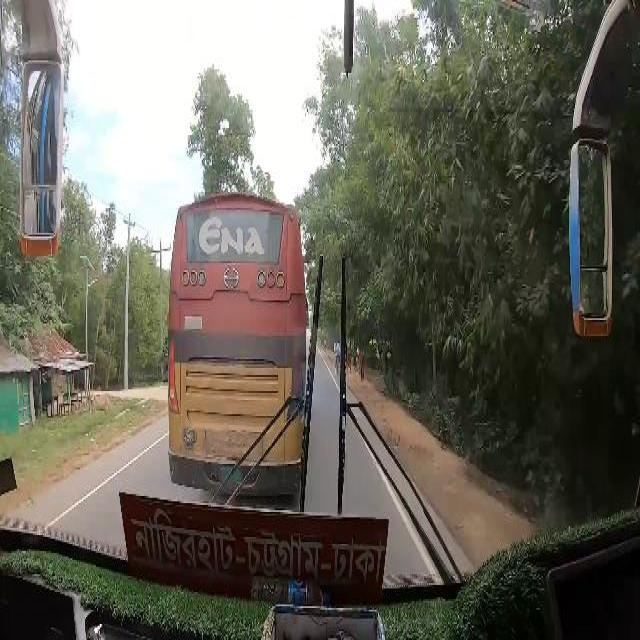bus: (166, 190, 307, 494)
